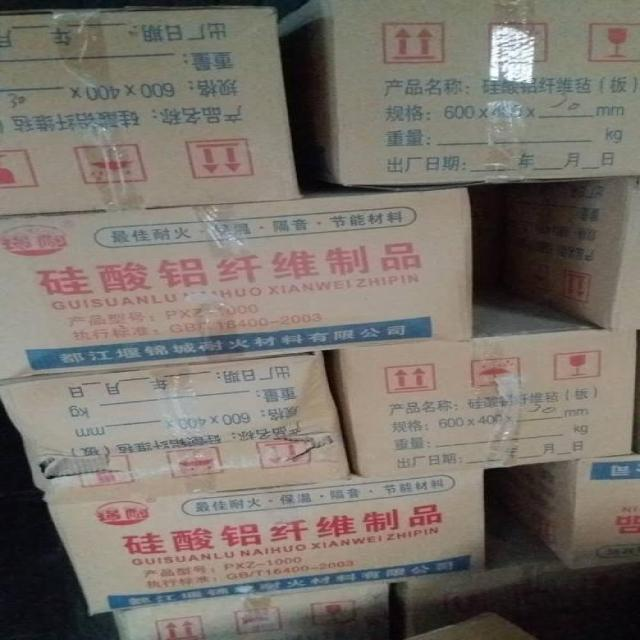box: (0, 179, 472, 382), (278, 0, 639, 191), (0, 8, 298, 218), (50, 470, 481, 615), (330, 301, 638, 479), (0, 353, 354, 502), (471, 175, 639, 329), (399, 519, 561, 638), (491, 455, 639, 570), (111, 583, 397, 639), (408, 614, 539, 639)
